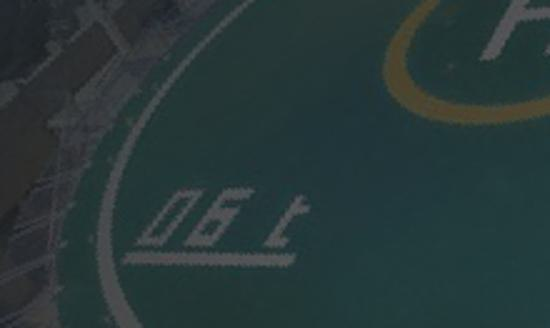Apron: (374, 1, 550, 129)
